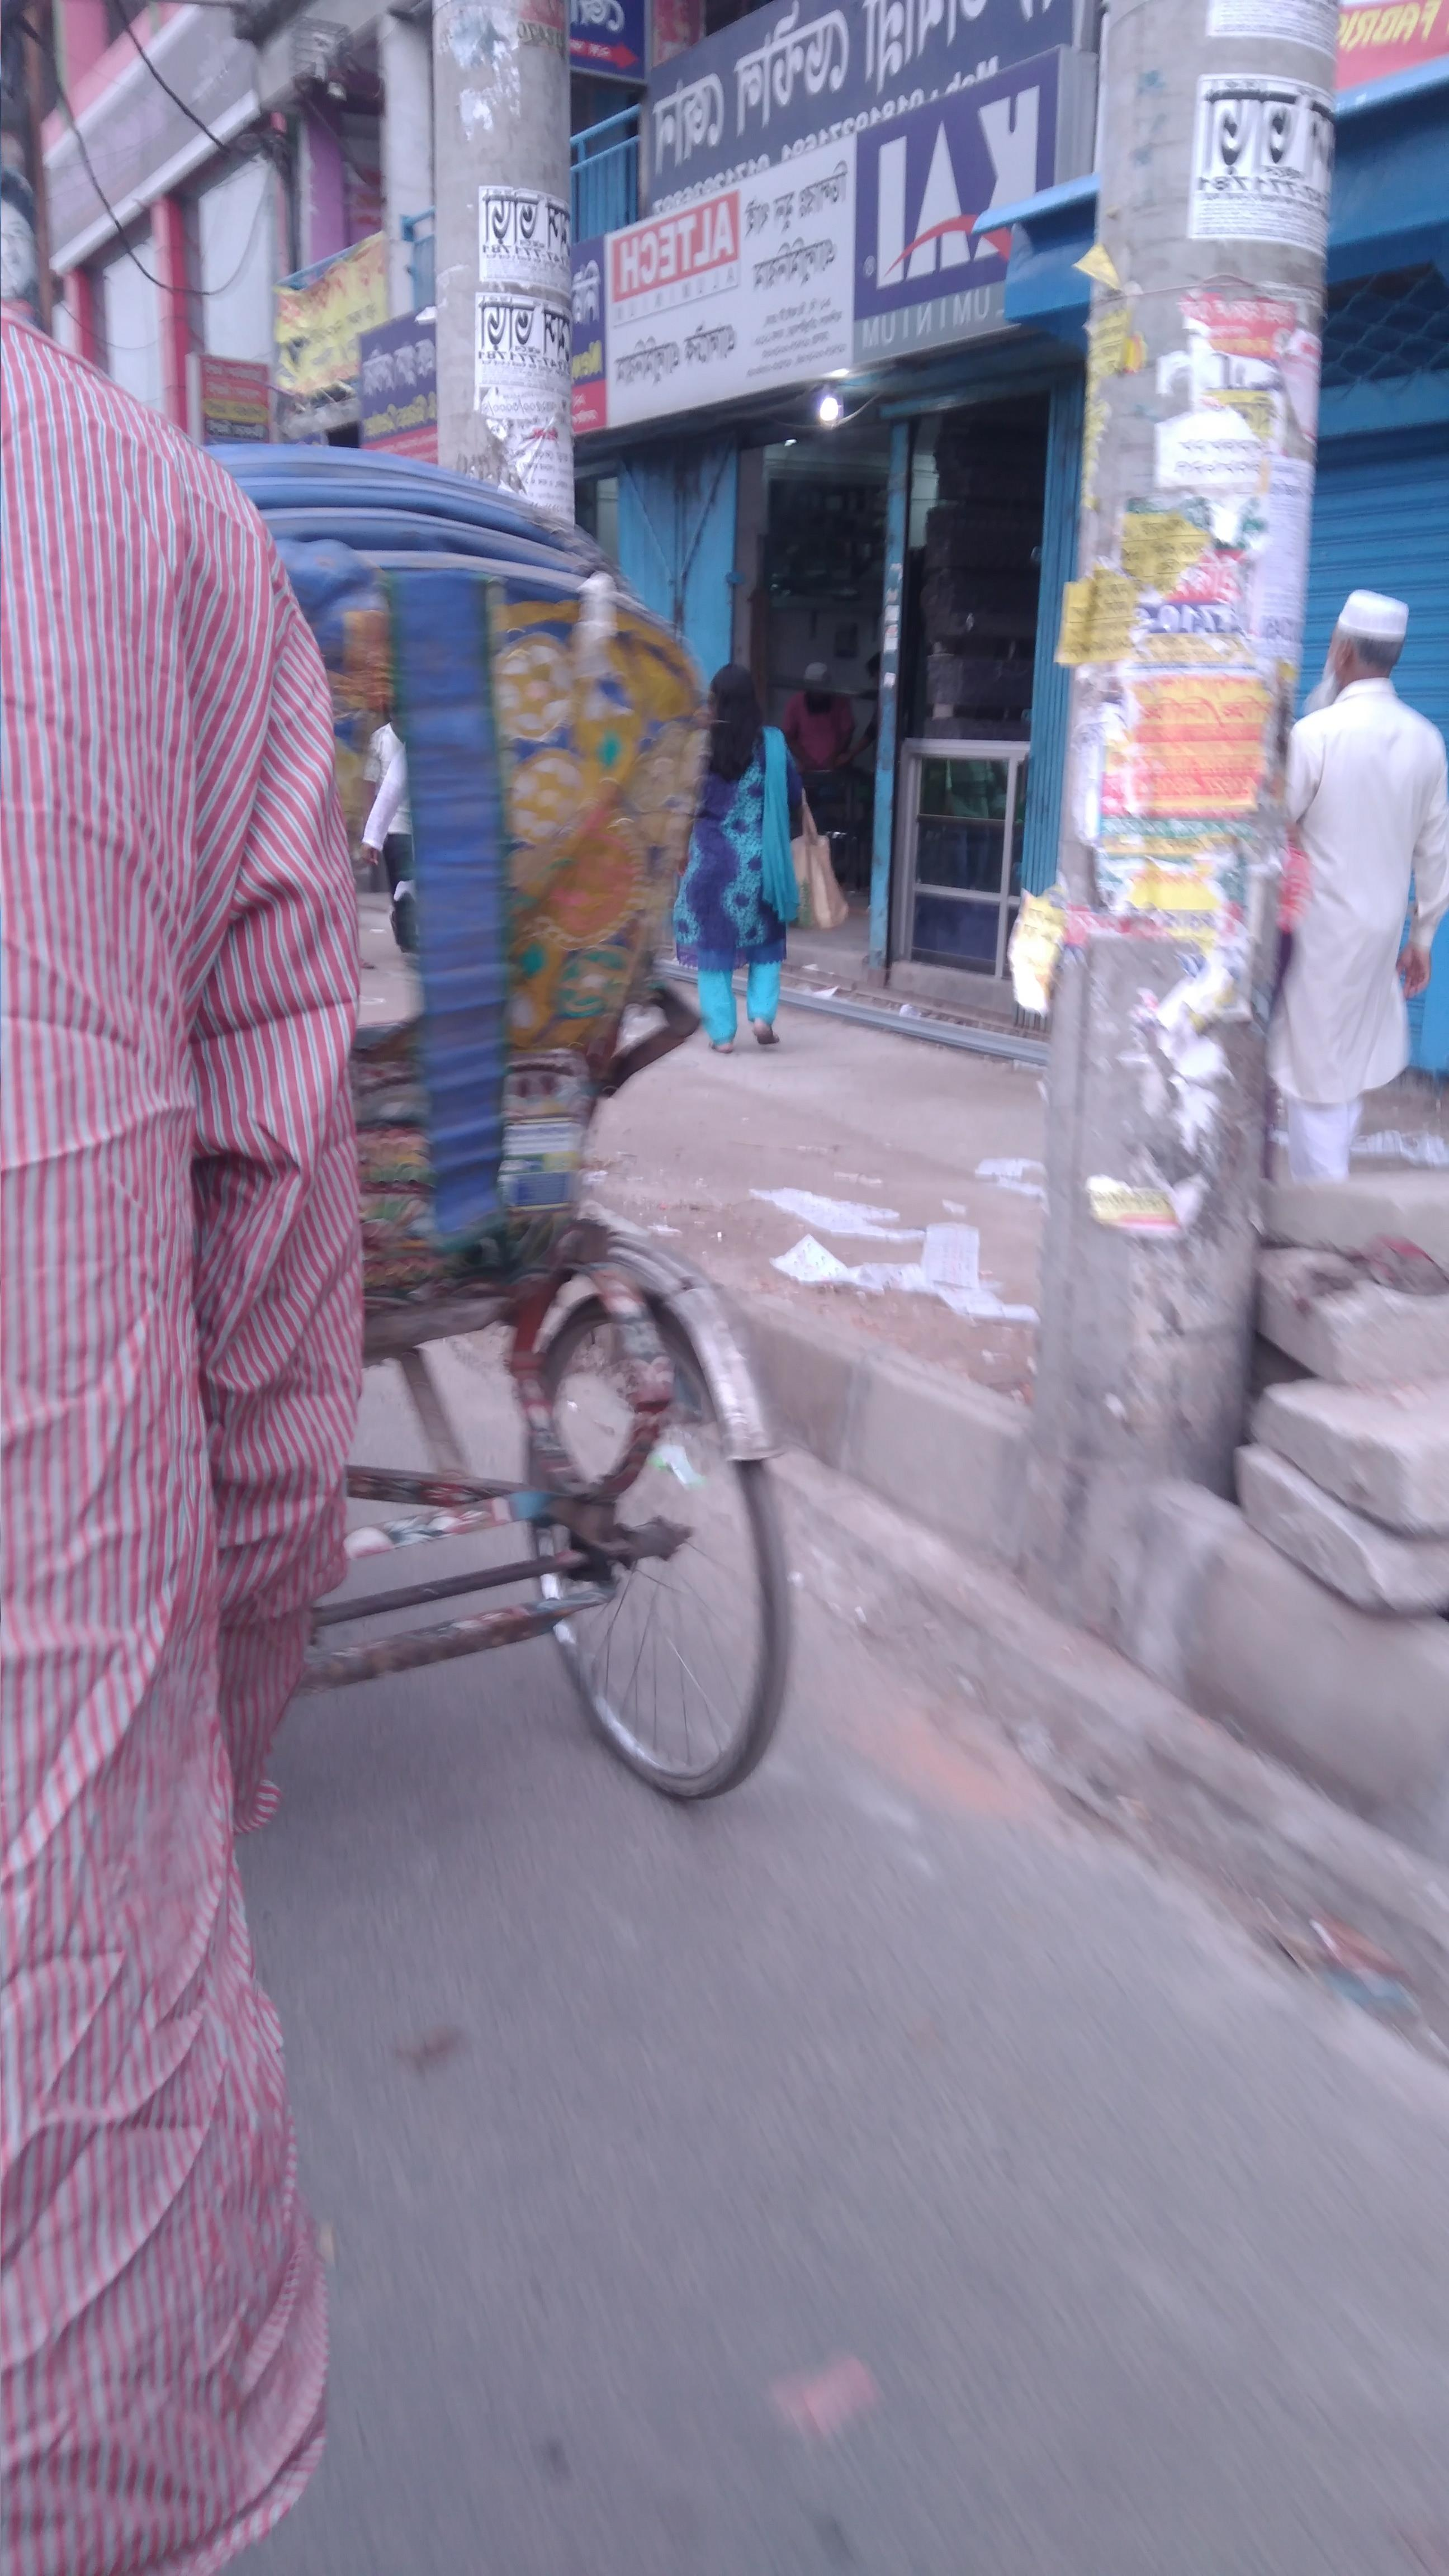Rickshaw: (152, 356, 830, 1835)
